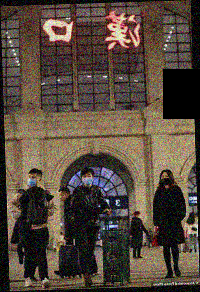with_mask: (26, 174, 40, 187), (81, 173, 93, 186), (160, 174, 171, 185)
without_mask: (58, 193, 65, 202)
